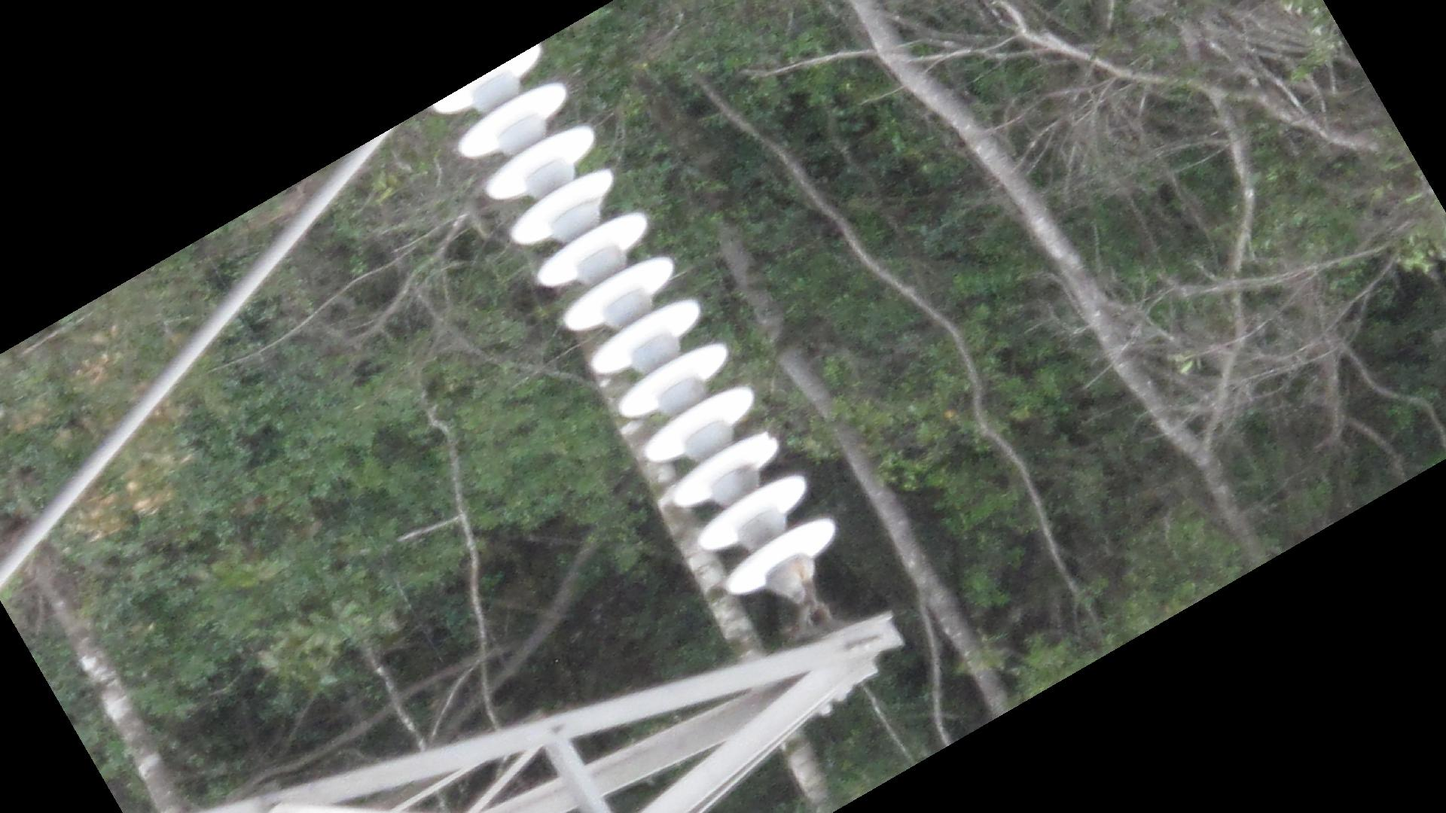insulator: (425, 37, 844, 604)
insulator_breakage: (750, 423, 785, 455)
